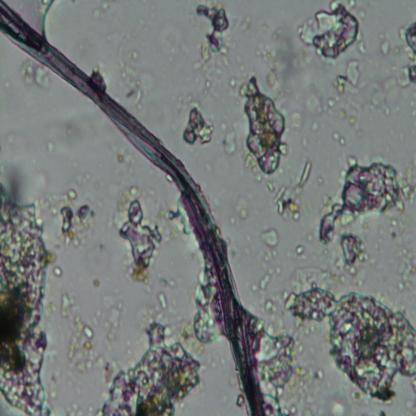Background material: (283, 286, 416, 405), (0, 183, 55, 415), (98, 316, 207, 414), (317, 156, 416, 244), (255, 323, 321, 408), (111, 182, 163, 288), (240, 76, 289, 184), (296, 0, 368, 60), (58, 290, 108, 374), (256, 21, 306, 97), (185, 268, 227, 348), (190, 3, 232, 74), (54, 185, 96, 242), (124, 50, 157, 106), (4, 145, 35, 202), (359, 71, 397, 115), (393, 22, 416, 92), (182, 100, 216, 147), (162, 190, 190, 240), (337, 233, 370, 274), (252, 271, 278, 316), (19, 58, 52, 92), (274, 184, 302, 222), (331, 58, 361, 93), (288, 108, 320, 136), (397, 246, 416, 289), (375, 24, 393, 58), (259, 225, 282, 251), (221, 124, 238, 156), (326, 394, 350, 415), (234, 193, 251, 218), (317, 95, 336, 116), (298, 160, 313, 186), (92, 0, 108, 20), (156, 288, 168, 313), (226, 74, 238, 99), (112, 148, 127, 166), (331, 128, 345, 147), (203, 76, 215, 95), (294, 240, 306, 257), (52, 264, 62, 278), (45, 144, 56, 156), (348, 114, 358, 127)
Cotton: (0, 0, 267, 415)
